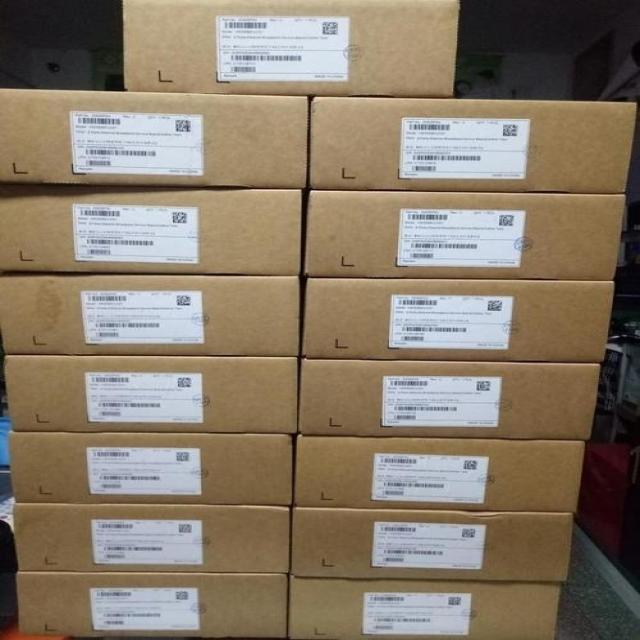box: (309, 94, 639, 194), (121, 2, 464, 95), (0, 88, 312, 187), (304, 187, 624, 279), (0, 181, 309, 274), (300, 279, 620, 361), (299, 357, 601, 441), (0, 272, 305, 355), (289, 434, 587, 512), (6, 427, 290, 507), (3, 356, 300, 431), (292, 509, 576, 582), (15, 502, 292, 573), (286, 574, 565, 639), (15, 571, 289, 636)
